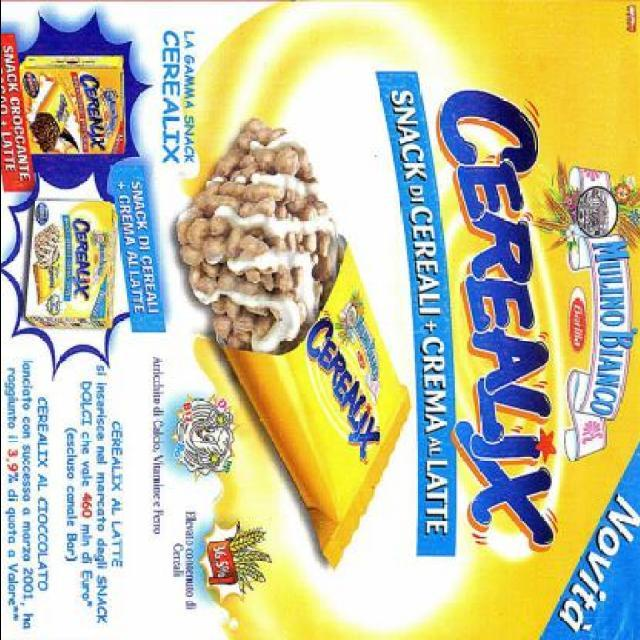Cereal bar: (184, 7, 636, 636)
